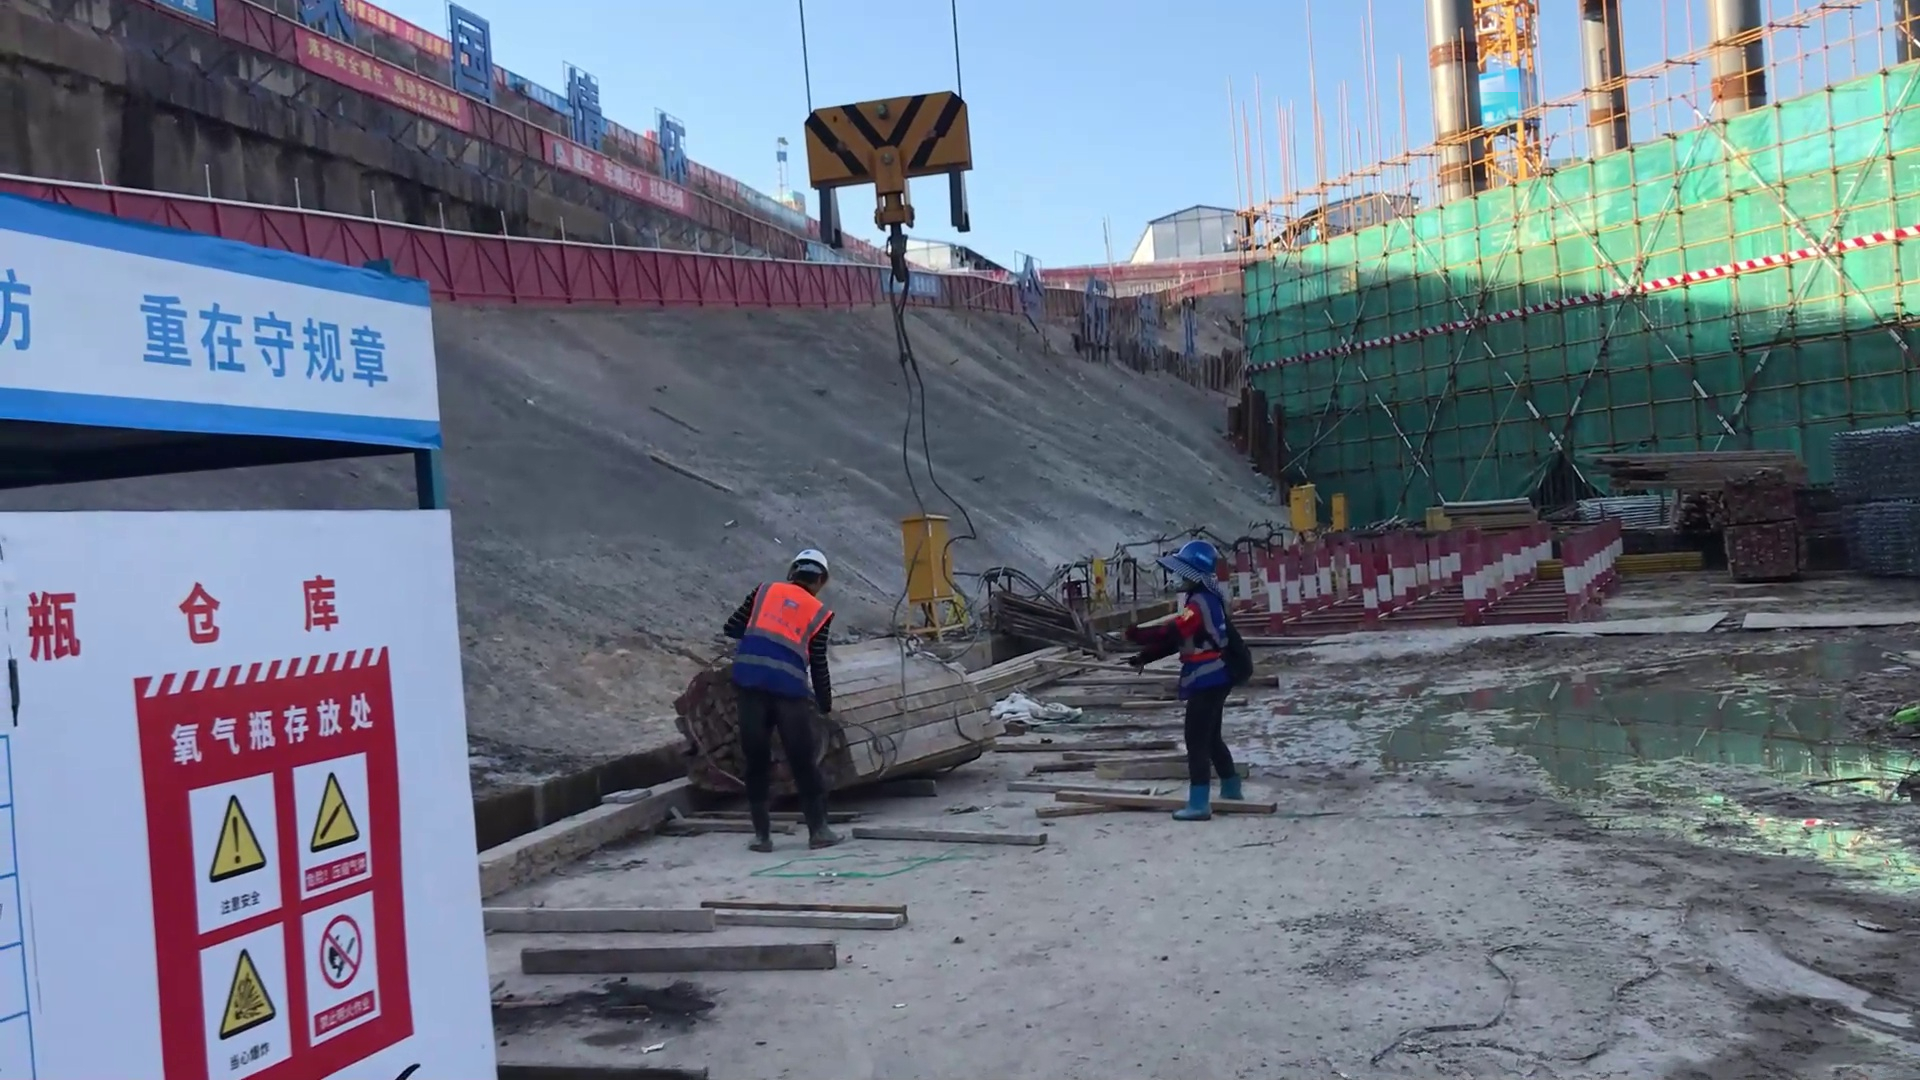ebox: (885, 504, 985, 623), (1283, 483, 1320, 525), (1331, 493, 1350, 527)
fence: (410, 222, 680, 318), (678, 250, 895, 312)
helmet: (1169, 546, 1249, 611), (780, 530, 843, 587)
hook: (806, 74, 973, 250)
person: (720, 535, 847, 863), (1153, 535, 1258, 835)
scaffold: (1838, 423, 1920, 497)
slogan: (106, 634, 407, 1080), (112, 275, 414, 409), (267, 12, 471, 157)
vest: (735, 580, 818, 653)
wood: (836, 631, 1000, 798), (1571, 449, 1810, 498)
